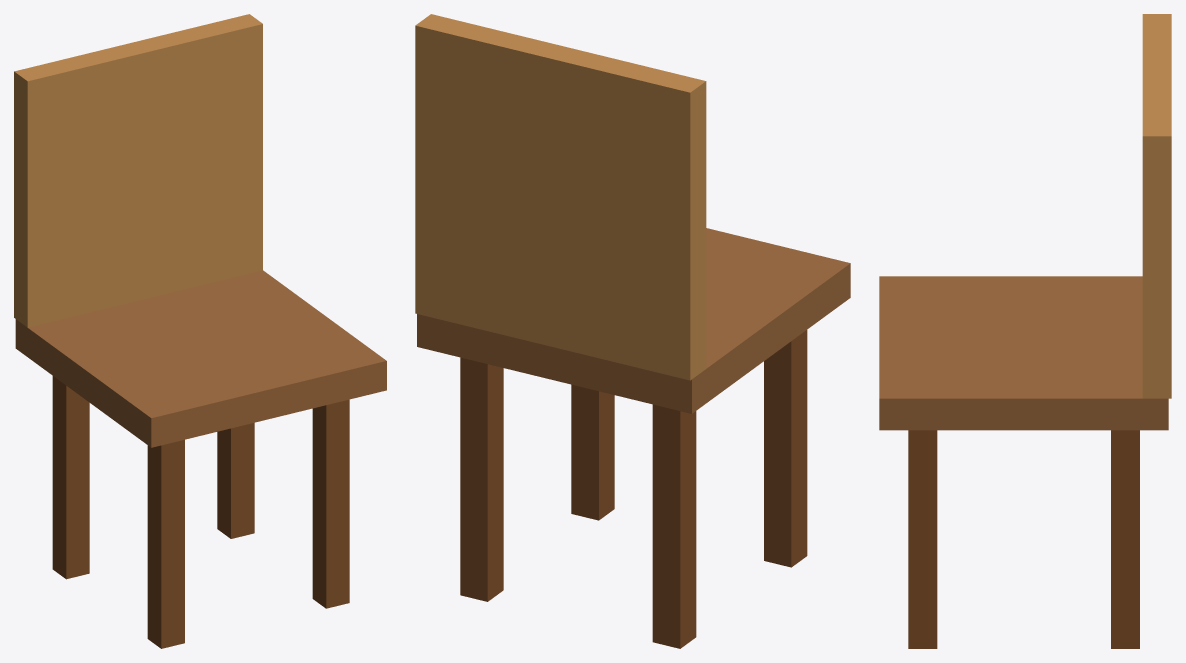
File: library_chair.fbx
The picture shows the model from 3 angles, left to right: view 1: azimuth 30°, elevation 25°; view 2: azimuth 150°, elevation 25°; view 3: azimuth 270°, elevation 25°; orthographic projection. The views are drawn at different scales.
Visible parts, largest first — view 1: library_chair; view 2: library_chair; view 3: library_chair.
Part boxes in pixels (x1=…): library_chair: x1=14, y1=14, x2=386, y2=648; library_chair: x1=415, y1=14, x2=850, y2=648; library_chair: x1=879, y1=14, x2=1171, y2=648.
Bounding box in the file's own units: 0.5 × 1 × 0.505.
